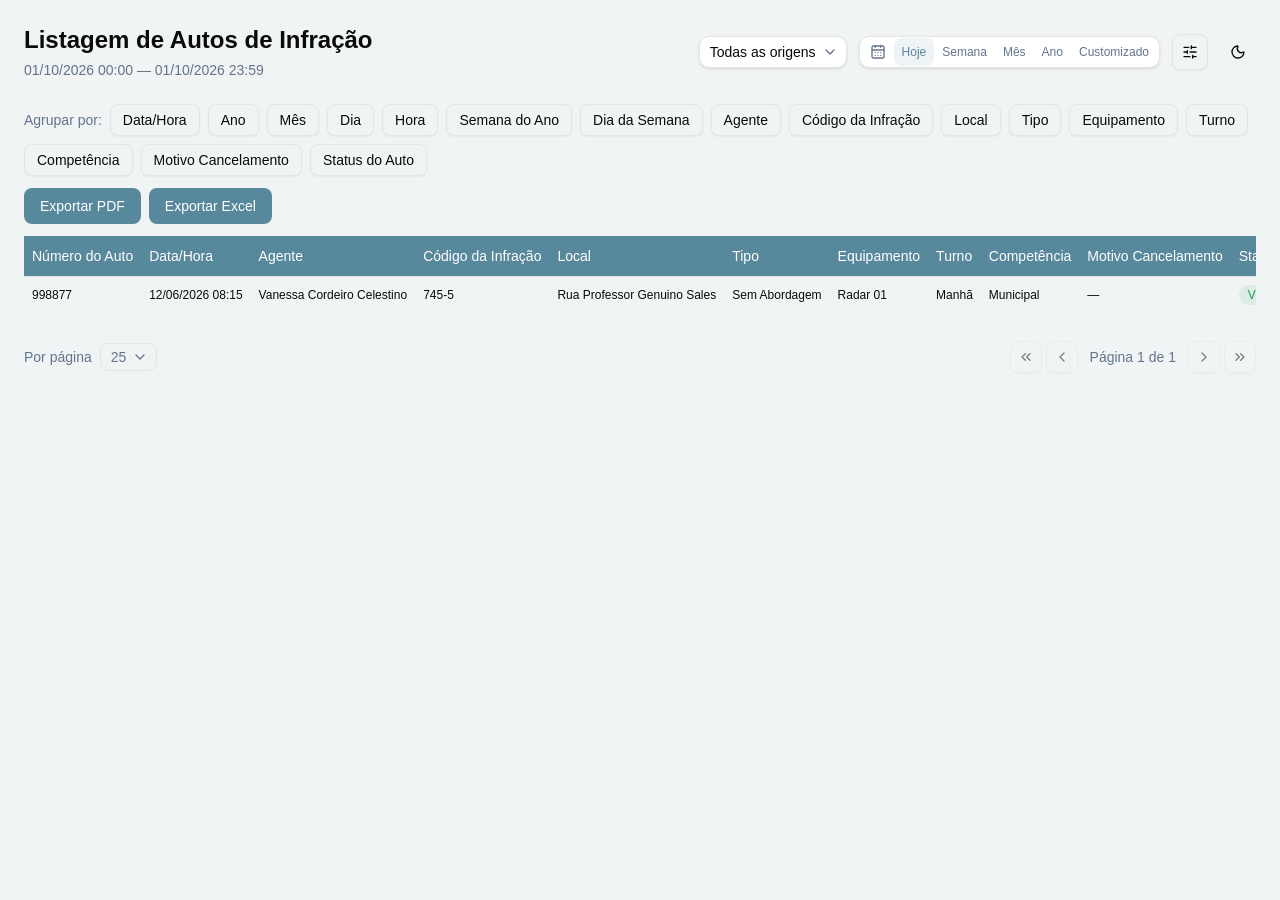
Scenario: Listagem › renders fetched rows with every field and opens the filter drawer
Expected: the element named "Selecionar período" is shown, [858,36,1160,68]
Expected: the text "Vanessa Cordeiro Celestino" is shown, [251,276,415,312]
Click the button named "Abrir filtros". click: (1190, 52)
box: [1172,34,1208,70]
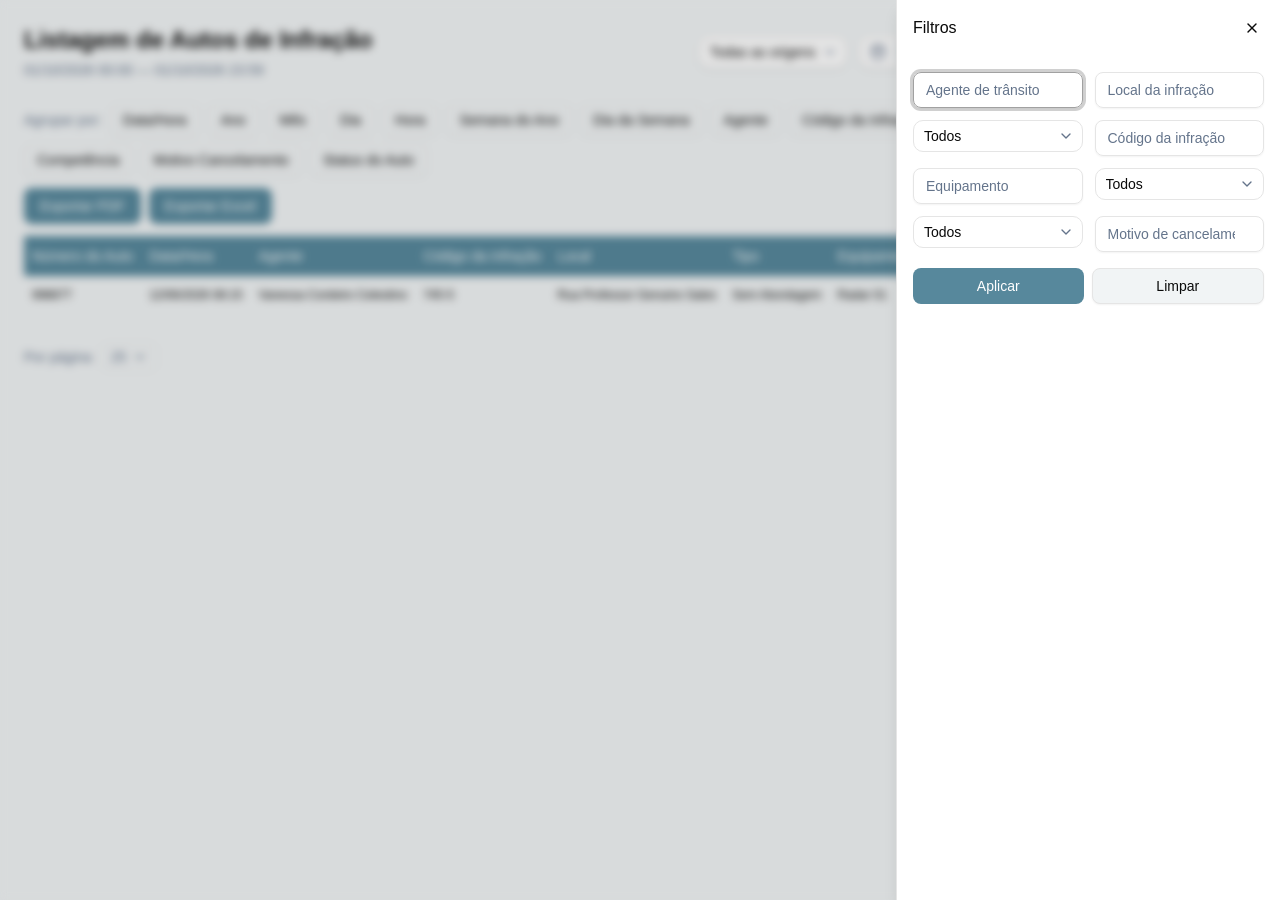
Result: the dropdown with placeholder "Agente de trânsito" is shown at [913,72,1082,108]
